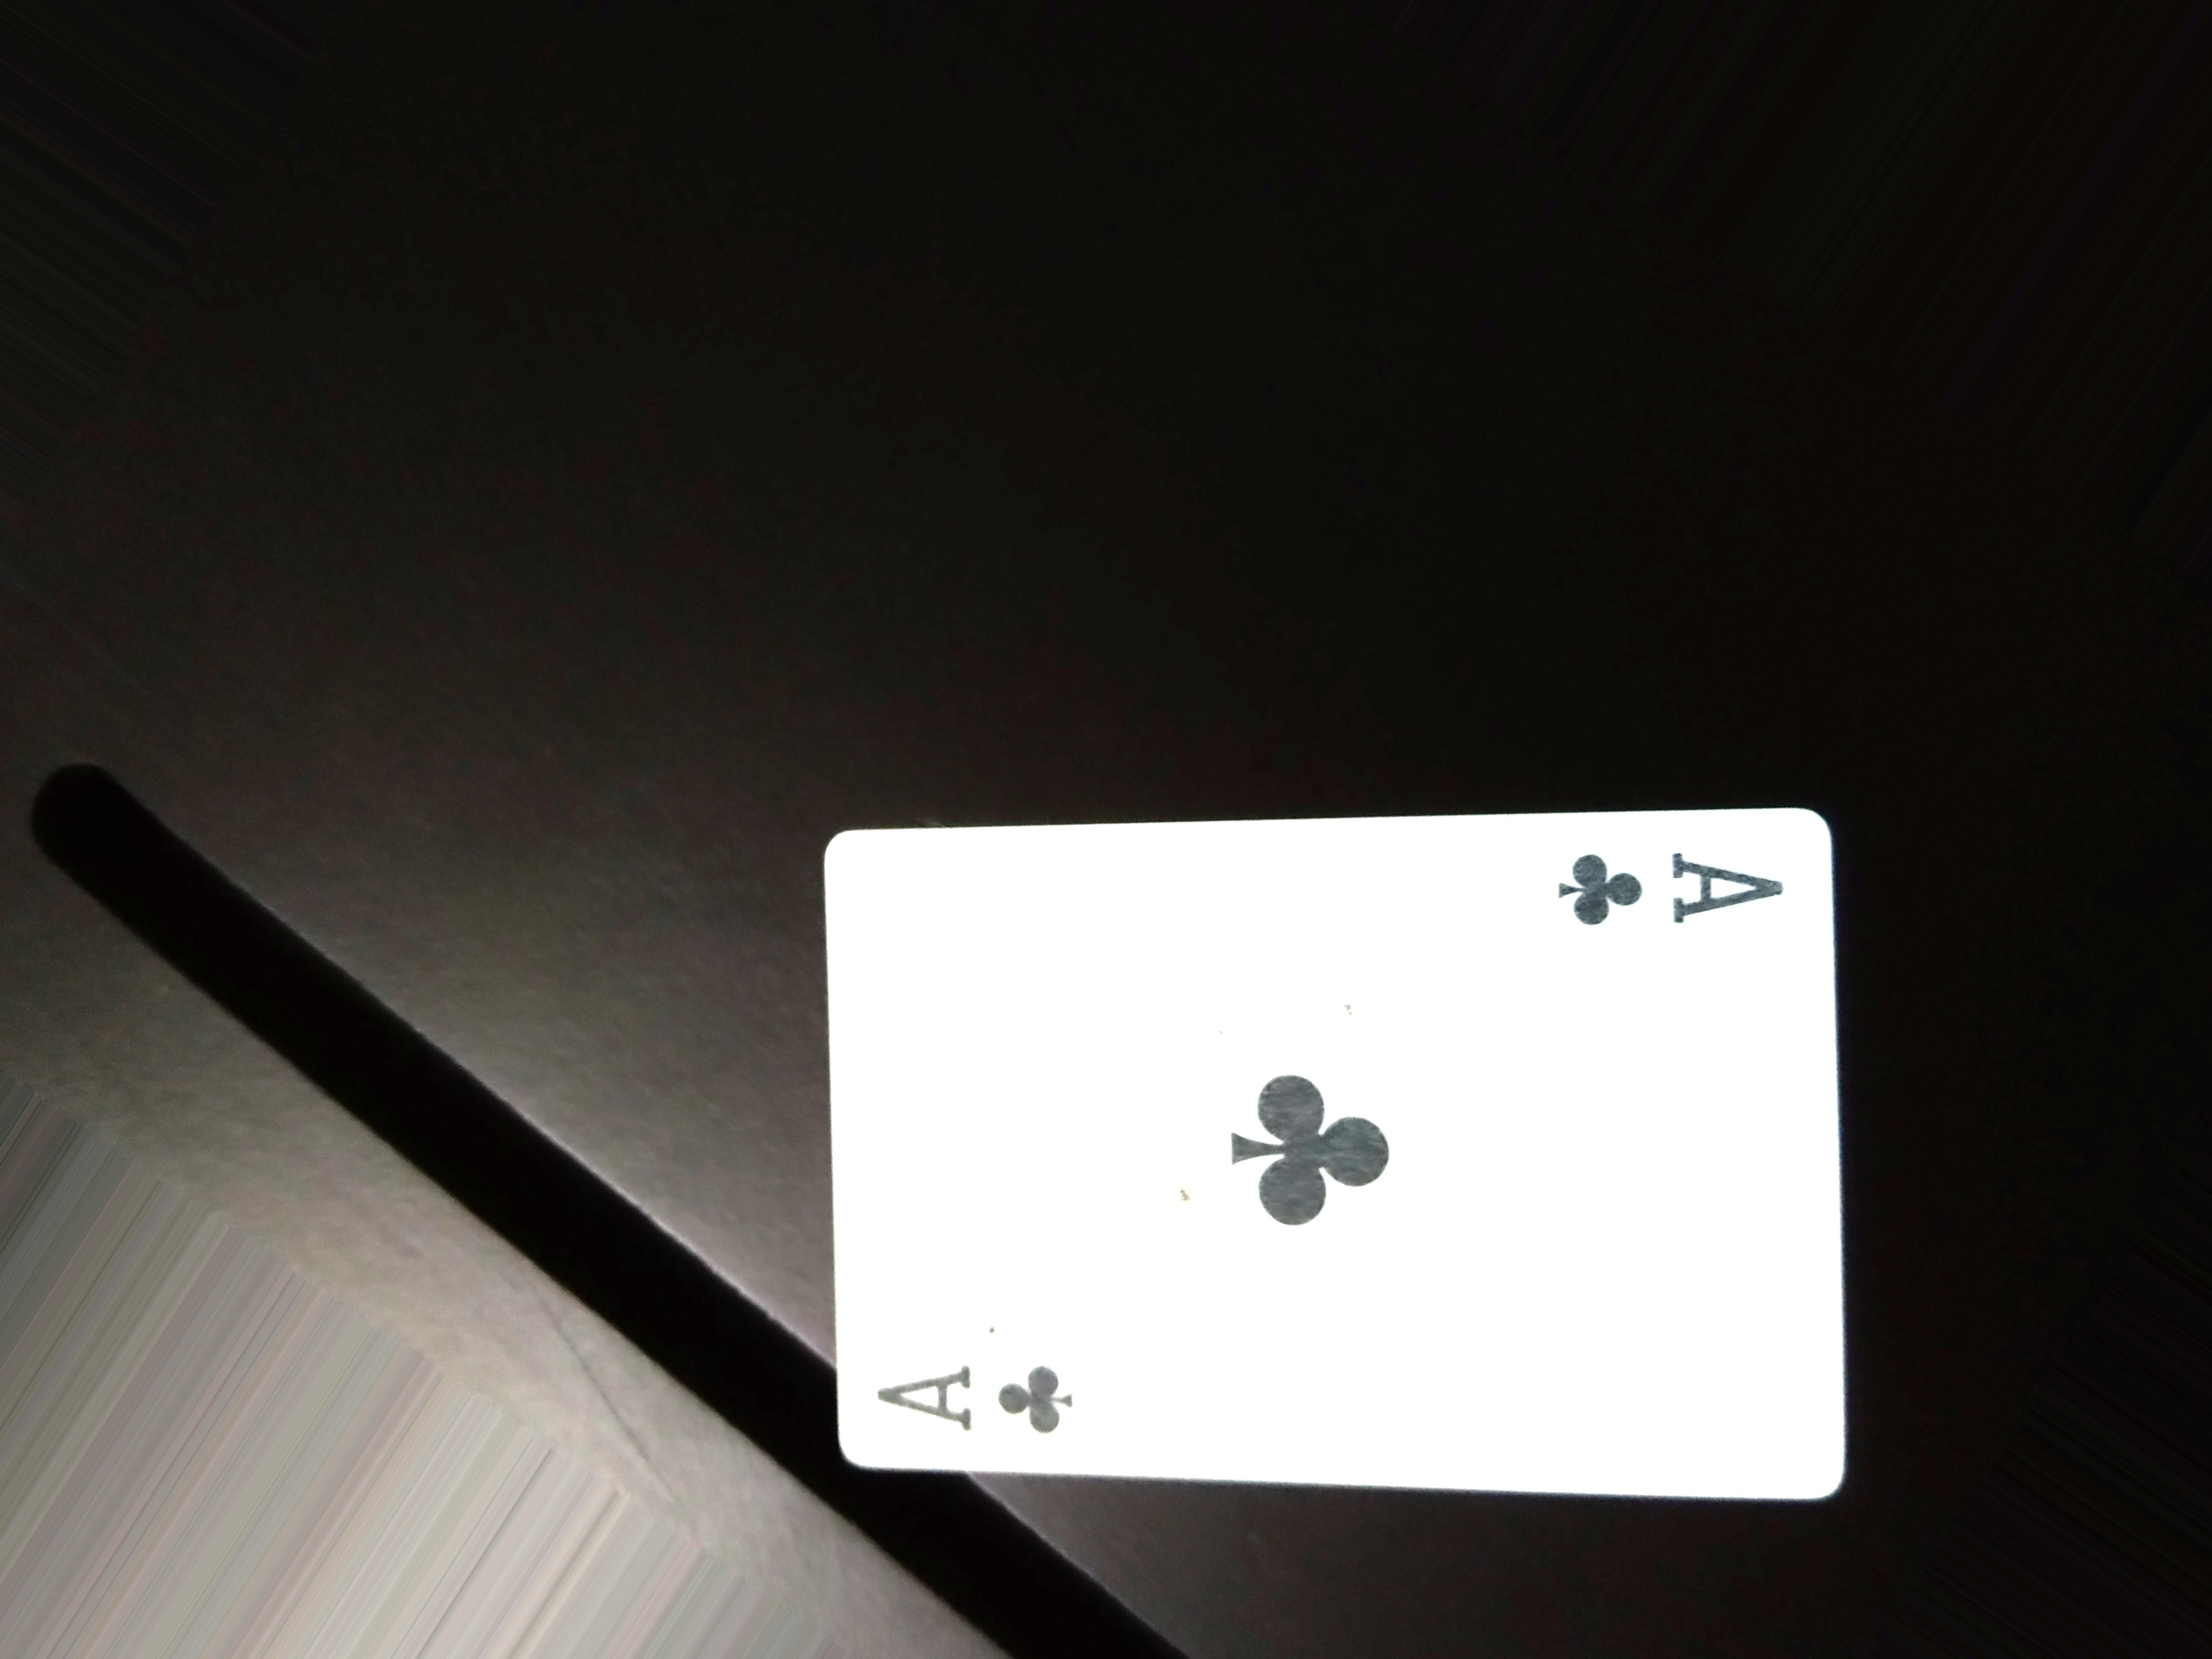AC: (1521, 829, 1808, 946)
